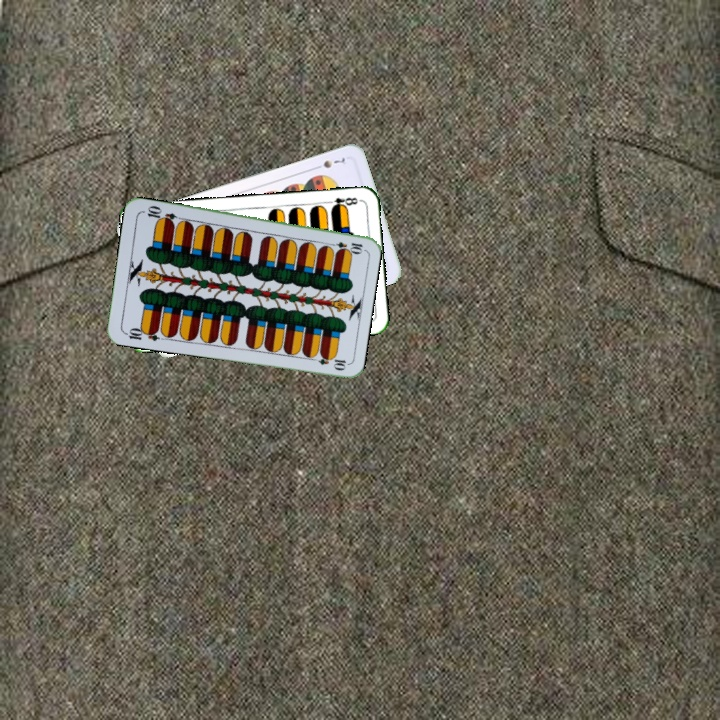E10: (121, 323, 161, 343), (325, 237, 365, 254)
E8: (322, 193, 360, 211)
S7: (310, 154, 348, 172)
